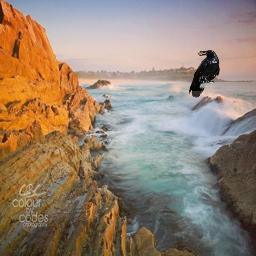Crow: (189, 50, 220, 98)
